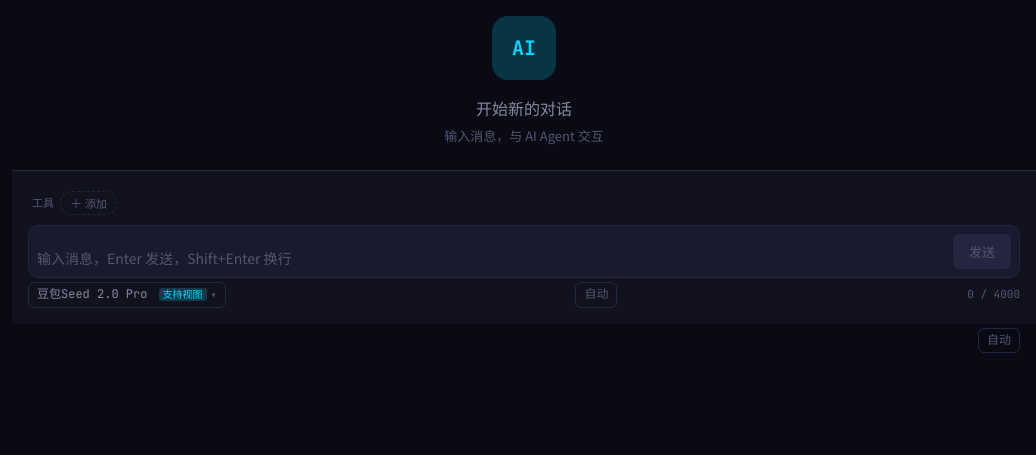
it: ChatWindow /skill 指令 › 技能不存在时提示且保持自动模式
In the text box with class "textarea": (491, 258) [37, 247, 945, 269], type "/skill 幽灵技能 查一下"
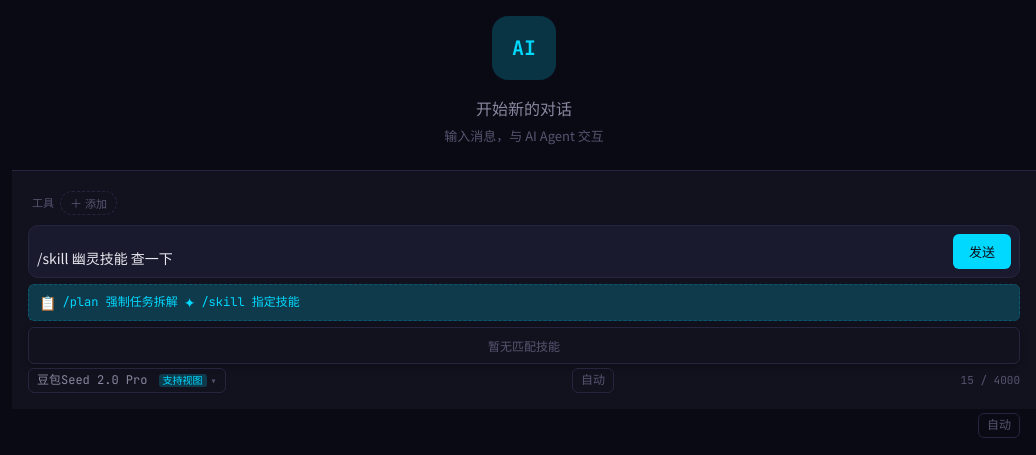
Click the button with class "btn-send": click(982, 252) [953, 234, 1011, 269]
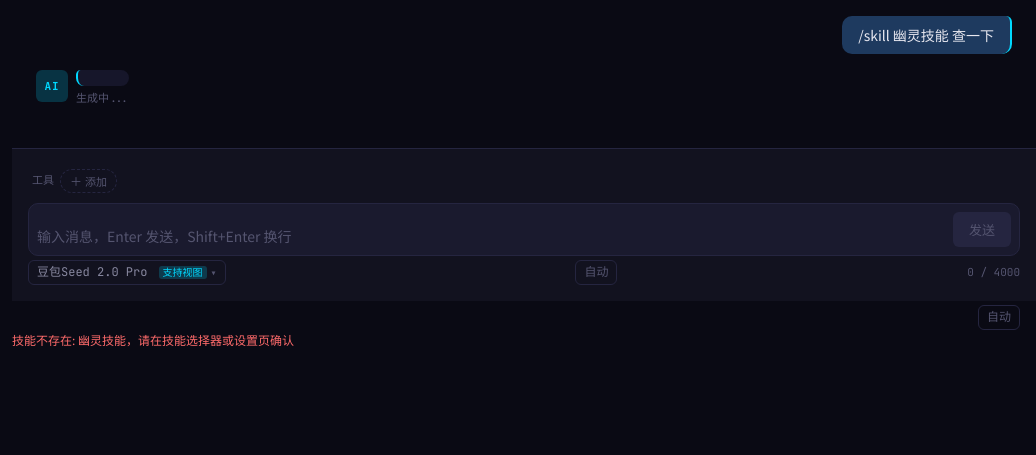
Expected: the text with class "cmd-error" shows "幽灵技能", [12, 331, 294, 348]
